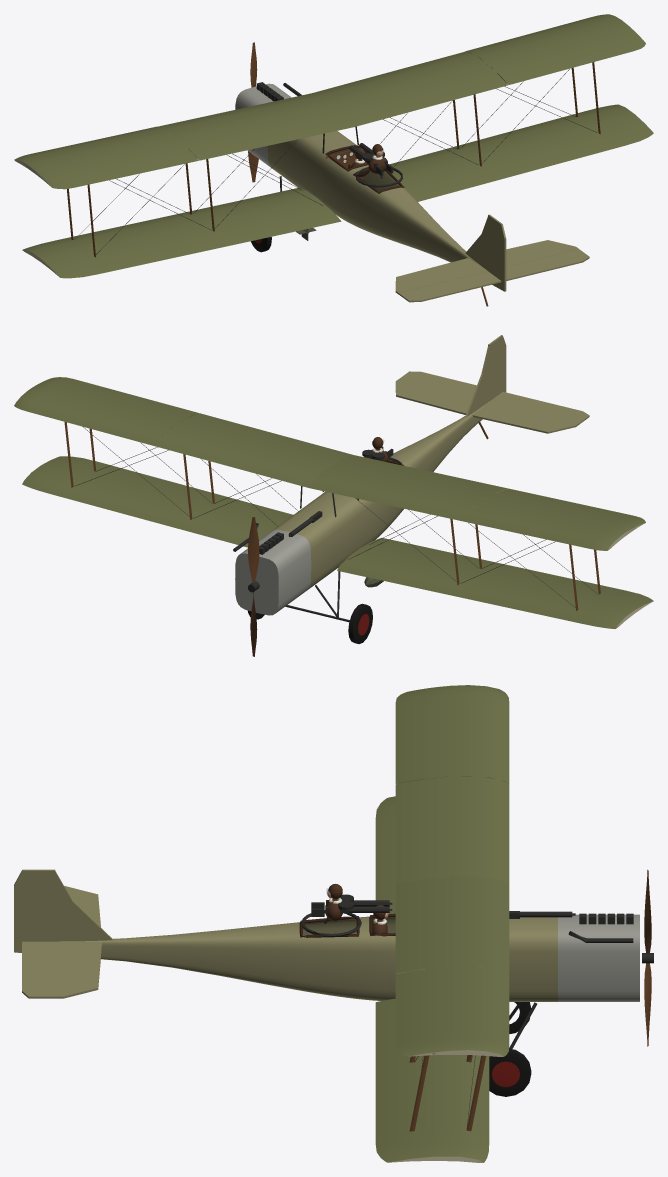
The picture shows the model from 3 angles, top to bottom: view 1: azimuth 30°, elevation 25°; view 2: azimuth 150°, elevation 25°; view 3: azimuth 270°, elevation 25°; orthographic projection. The views are drawn at different scales.
Visible parts, largest first — view 1: Wing_Lower_L, Wing_Upper_R, Wing_Upper_L, Wing_Lower_R, Fuselage, Elevator, Aileron_R, Aileron_L, Stabilizer_L, Struts, Wires, Rudder (+5 smaller); view 2: Wing_Upper_R, Wing_Upper_L, Wing_Lower_L, Fuselage, Wing_Lower_R, Elevator, Stabilizer_L, Stabilizer_R, Struts, Wires, Aileron_R, Aileron_L (+4 smaller); view 3: Fuselage, Wing_Upper_L, Wing_Upper_R, Wing_Lower_R, Rudder, Aileron_L, Aileron_R, Stabilizer_R, Wing_Lower_L, Wheels, Elevator, Fin (+6 smaller).
Part boxes in pixels (x1,y1,x2,y2): Wing_Lower_L: (22, 187, 341, 278); Wing_Upper_R: (312, 14, 635, 126); Wing_Upper_L: (14, 93, 353, 178); Wing_Lower_R: (389, 104, 653, 201); Fuselage: (235, 83, 487, 270); Elevator: (398, 249, 589, 302); Aileron_R: (497, 33, 645, 84); Aileron_L: (42, 148, 198, 189); Stabilizer_L: (395, 258, 487, 294); Struts: (67, 62, 600, 257); Wires: (74, 69, 597, 254); Rudder: (488, 214, 506, 291); Wing_Upper_R: (14, 381, 353, 487); Wing_Upper_L: (309, 455, 635, 550); Wing_Lower_L: (337, 538, 653, 628); Fuselage: (235, 401, 489, 615); Wing_Lower_R: (22, 456, 293, 547); Elevator: (399, 371, 589, 424); Stabilizer_L: (472, 401, 579, 433); Stabilizer_R: (395, 379, 472, 414); Struts: (64, 422, 600, 610); Wires: (74, 427, 597, 607); Aileron_R: (43, 377, 198, 417); Aileron_L: (497, 488, 645, 528); Fuselage: (60, 914, 639, 1001); Wing_Upper_L: (395, 685, 509, 884); Wing_Upper_R: (395, 876, 509, 1056); Wing_Lower_R: (375, 998, 489, 1162); Rudder: (14, 869, 55, 952); Aileron_L: (395, 687, 431, 783); Aileron_R: (395, 969, 432, 1056); Stabilizer_R: (55, 941, 101, 998); Wing_Lower_L: (375, 796, 395, 913); Wheels: (489, 1002, 531, 1096); Elevator: (22, 941, 55, 998); Fin: (55, 871, 112, 941).
Bounding box in the file's own units: 12.92 × 3.27 × 9.57.
